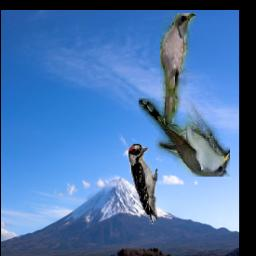Cuckoo: (139, 99, 230, 178), (160, 14, 195, 126)
Woodpecker: (128, 144, 157, 226)
